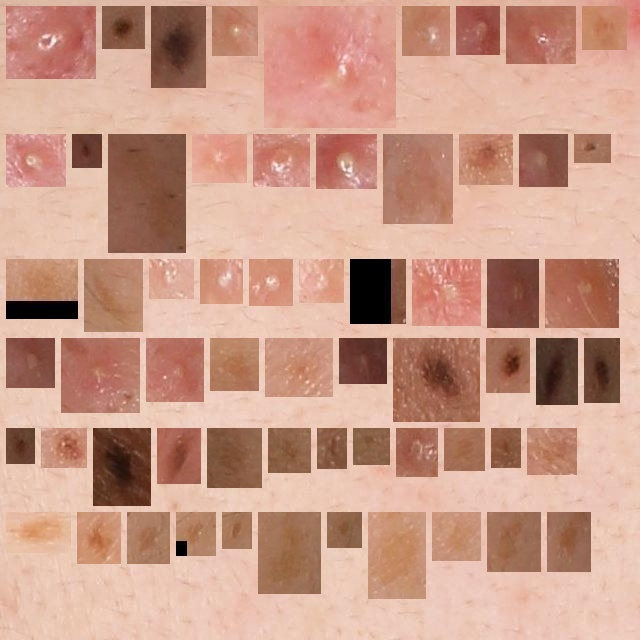melasma: (116, 142, 178, 245), (391, 142, 445, 216), (266, 520, 313, 586), (376, 520, 418, 591), (14, 267, 70, 311), (92, 267, 135, 324), (273, 346, 325, 389), (215, 436, 254, 480), (495, 520, 533, 564), (555, 520, 583, 564), (14, 520, 63, 545), (218, 346, 251, 383), (440, 520, 473, 553), (535, 436, 569, 467), (85, 520, 113, 556), (135, 520, 162, 556), (590, 14, 619, 42), (276, 436, 303, 465), (452, 436, 477, 463), (184, 520, 208, 548), (361, 436, 382, 457), (335, 520, 354, 540), (325, 436, 339, 461), (499, 436, 513, 460), (230, 520, 244, 541)
nevus: (401, 346, 472, 414), (101, 436, 143, 498), (159, 14, 198, 80), (467, 142, 505, 177), (544, 346, 570, 397), (165, 436, 193, 476), (494, 346, 522, 385), (592, 346, 612, 395), (110, 14, 137, 41), (49, 436, 79, 460), (582, 142, 603, 155), (14, 436, 27, 456), (80, 142, 94, 160)
pustule: (272, 14, 388, 120), (14, 14, 88, 71), (69, 346, 132, 405), (553, 267, 611, 320), (420, 267, 473, 318), (514, 14, 568, 56), (154, 346, 196, 394), (358, 267, 398, 316), (495, 267, 531, 320), (324, 142, 369, 181), (14, 142, 58, 179), (261, 142, 302, 179), (200, 142, 239, 175), (527, 142, 560, 179), (14, 346, 47, 380), (410, 14, 442, 48), (220, 14, 250, 48), (347, 346, 379, 376), (464, 14, 492, 47), (257, 267, 285, 298), (404, 436, 430, 469), (307, 267, 336, 295), (208, 267, 235, 296), (157, 267, 186, 291)
